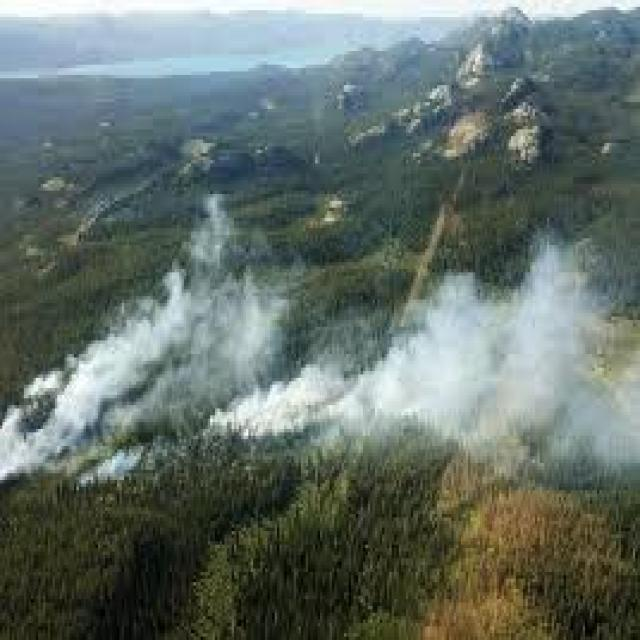Smoke: (183, 231, 640, 474), (356, 240, 628, 480), (0, 198, 207, 490), (0, 310, 154, 487), (207, 357, 392, 454)
